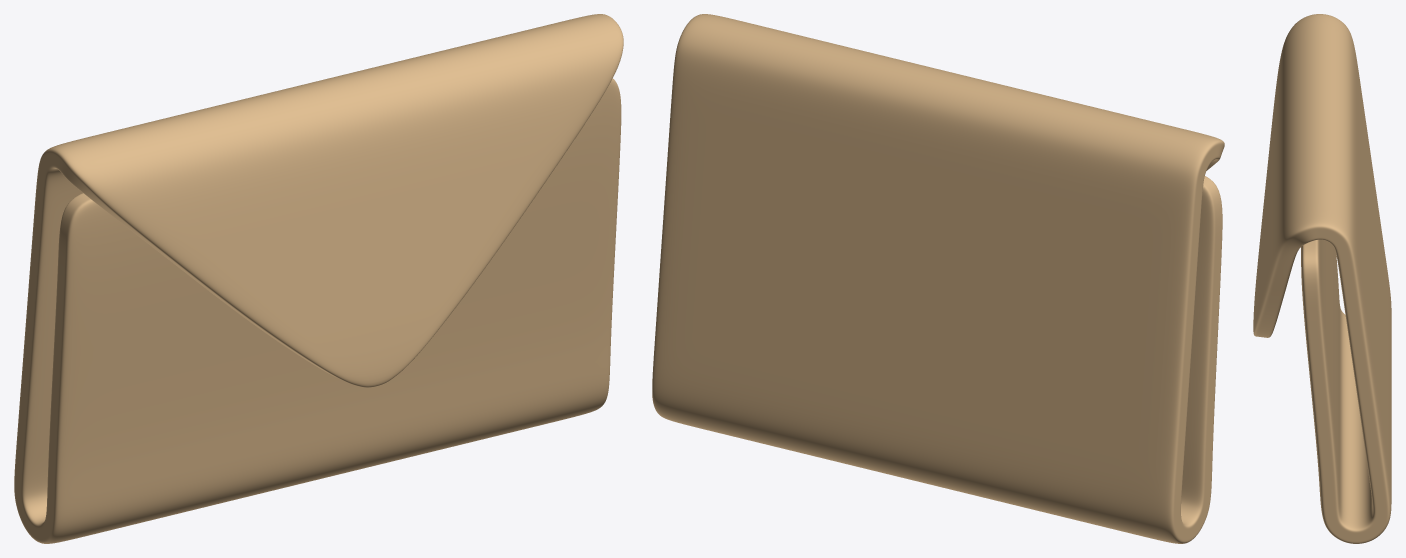
Rendered from letter.fbx.
3 views of the same model, side by side, from view 1: azimuth 30°, elevation 25°; view 2: azimuth 150°, elevation 25°; view 3: azimuth 270°, elevation 25° (orthographic). The views are drawn at different scales.
Visible parts, largest first — view 1: Mail; view 2: Mail; view 3: Mail.
Part boxes in pixels (x1=…): Mail: x1=14, y1=14, x2=623, y2=543; Mail: x1=652, y1=14, x2=1224, y2=543; Mail: x1=1253, y1=14, x2=1391, y2=543.
Bounding box in the file's own units: 196 × 138 × 53.82.
